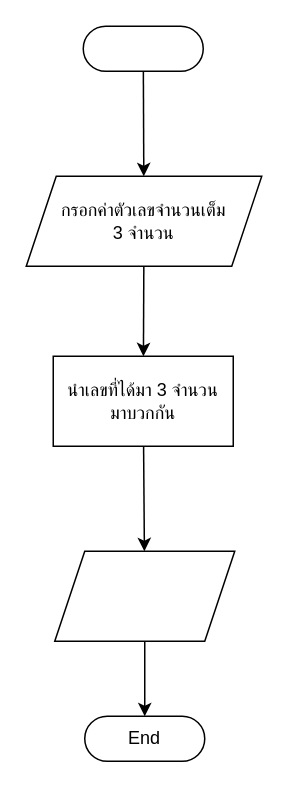
This 288x788 diagram has some shape labels left out. Here are the shapes that lost their labels. From the top down, the centre of each, then its label:
At (142,48): "Start".
At (144,595): "เเสดงผลลัพธ์".
